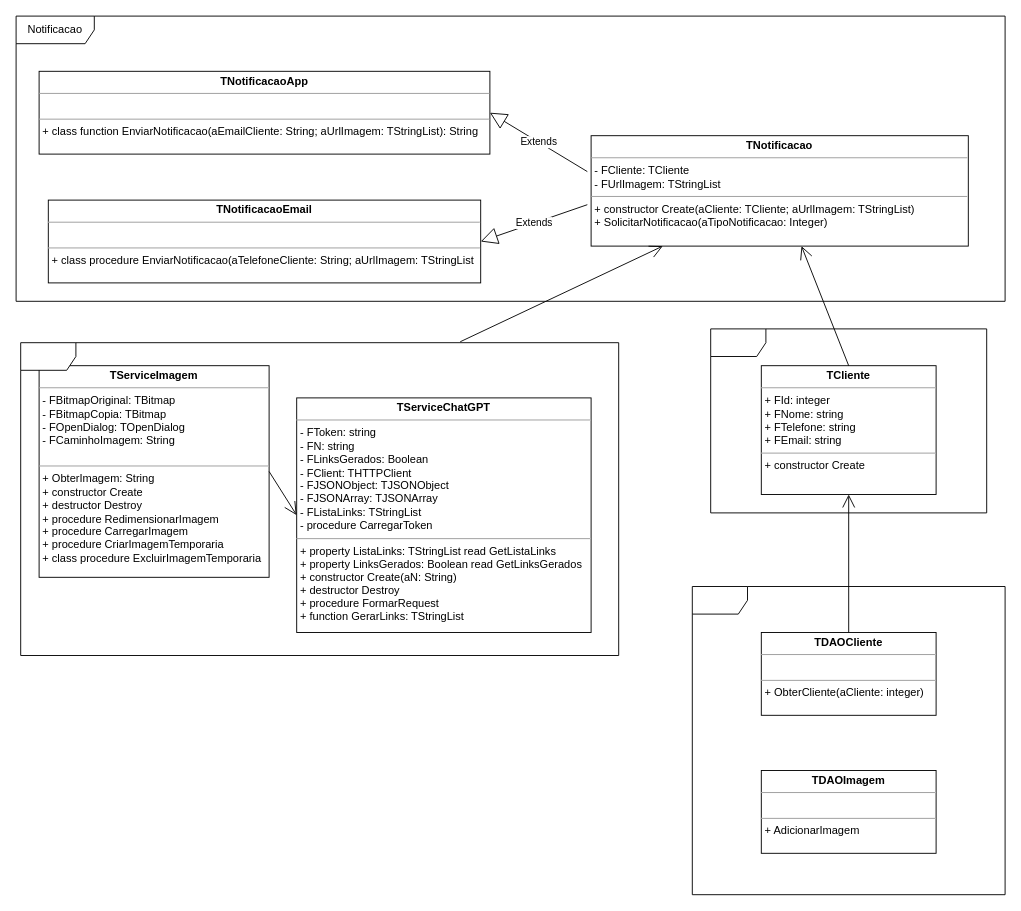
This 1021x911 diagram has some shape labels left out. Each missing label, with the centre of its shape:
Cliente: [848,420]
DAO: [848,740]
Services: [319,499]
